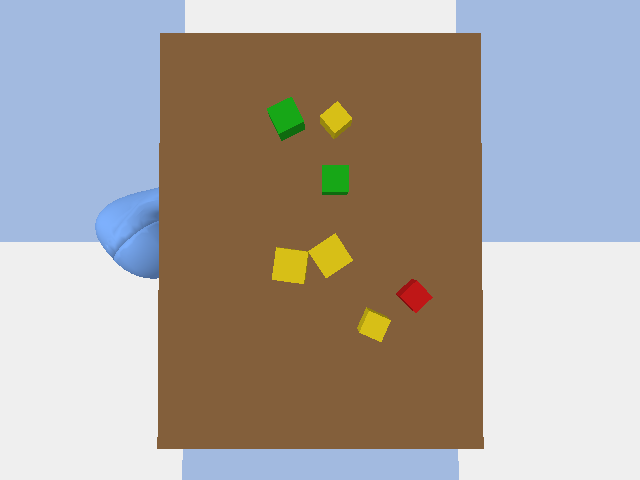green_obj: (267, 97, 304, 140), (322, 165, 348, 194)
red_obj: (396, 279, 432, 312)
yellow_obj: (308, 233, 352, 277), (272, 247, 308, 283), (320, 101, 351, 138), (357, 307, 390, 341)
